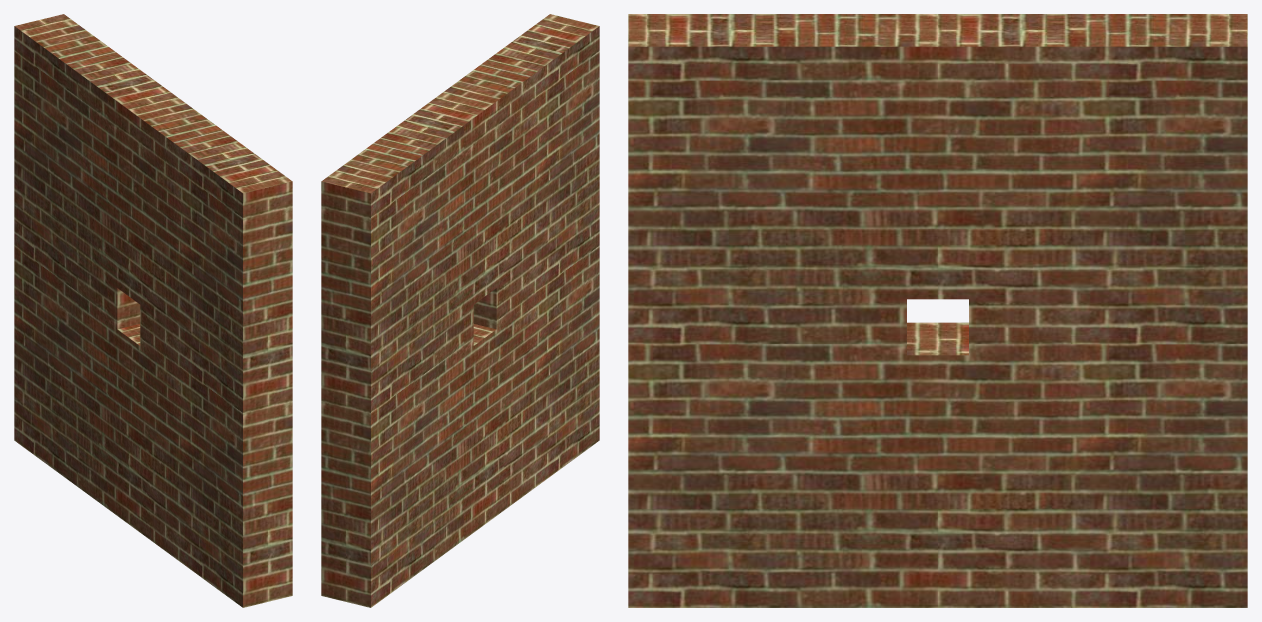
File: brick_wall_hole_5.dae
The picture shows the model from 3 angles, left to right: view 1: azimuth 30°, elevation 25°; view 2: azimuth 150°, elevation 25°; view 3: azimuth 270°, elevation 25°; orthographic projection. The views are drawn at different scales.
Parts seen in each view (by area): view 1: SketchUp (×2); view 2: SketchUp (×2); view 3: SketchUp (×2).
Part boxes in pixels (x1,y1,x2,y2): SketchUp (×2): (14, 14, 292, 607); SketchUp (×2): (321, 14, 599, 607); SketchUp (×2): (628, 14, 1247, 607).
Size of the model in its own units: 9.84 by 78.74 by 78.74.
